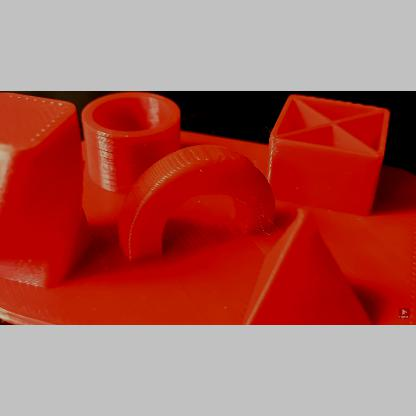fail: (246, 202, 284, 244)
